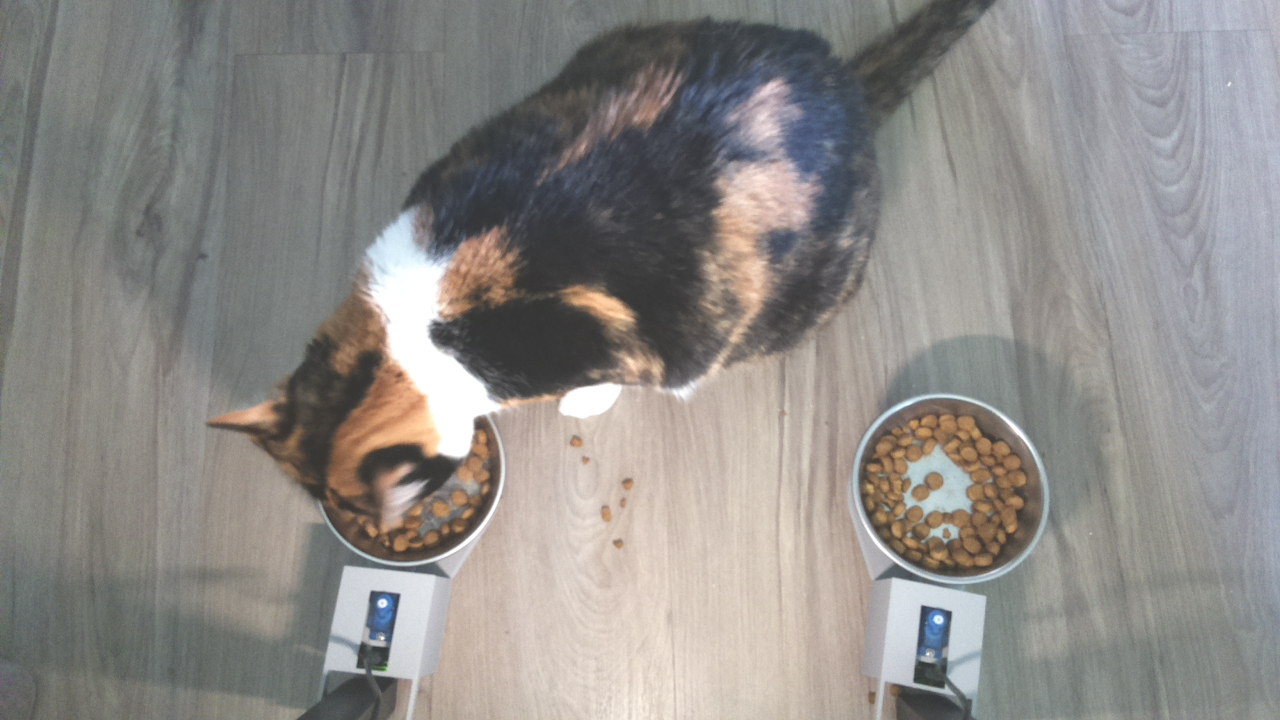bella_eating: (202, 244, 535, 569)
open_bowl: (847, 386, 1054, 591)
